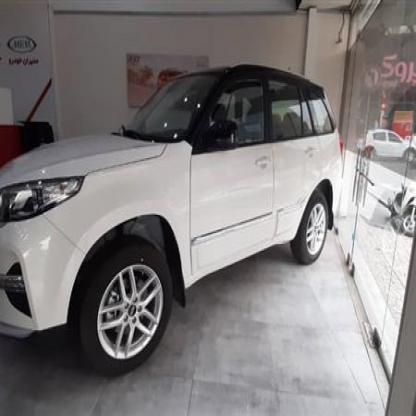Car: (0, 50, 346, 370), (358, 119, 416, 169)
